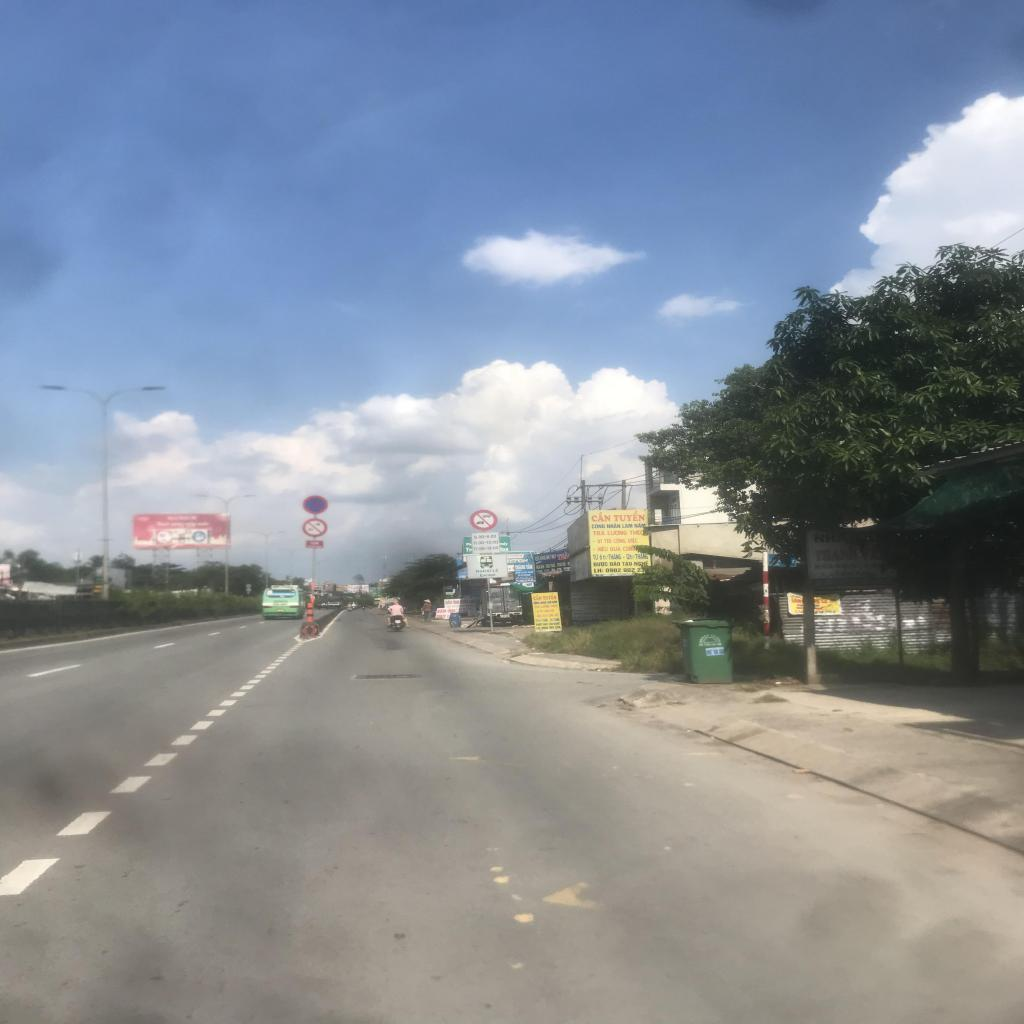cam_dung_xe_va_do_xe: (303, 496, 328, 514)
cam_o_to_tai_va_xe_khach: (470, 510, 498, 530)
cam_xe_2_banh_va_xe_3_banh_co_dong_co: (302, 518, 327, 537)
khac: (466, 554, 508, 579), (471, 532, 500, 553)
